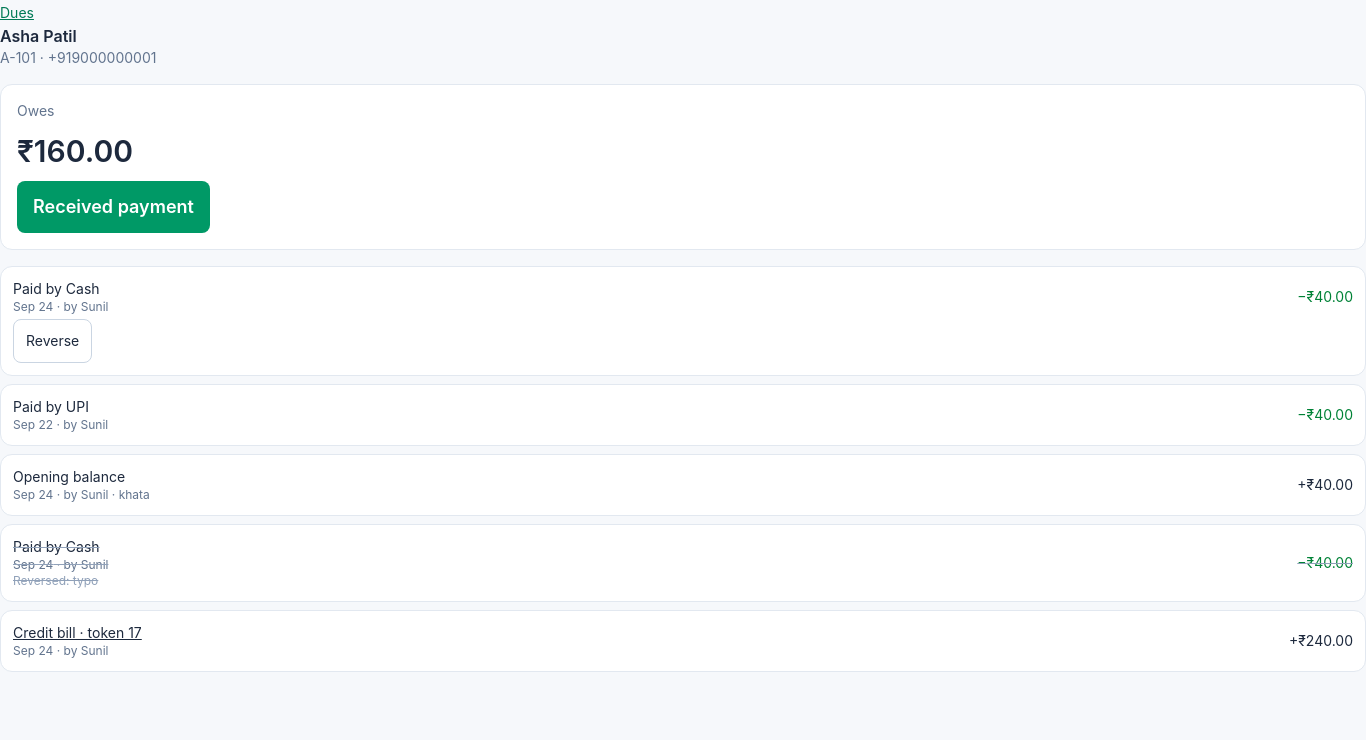
Scenario: Customer dues › shows a server refusal from recording
This screenshot has width=1366, height=740.
Click the button with test id "cd-receive" at (113, 207), box [17,181,210,233]
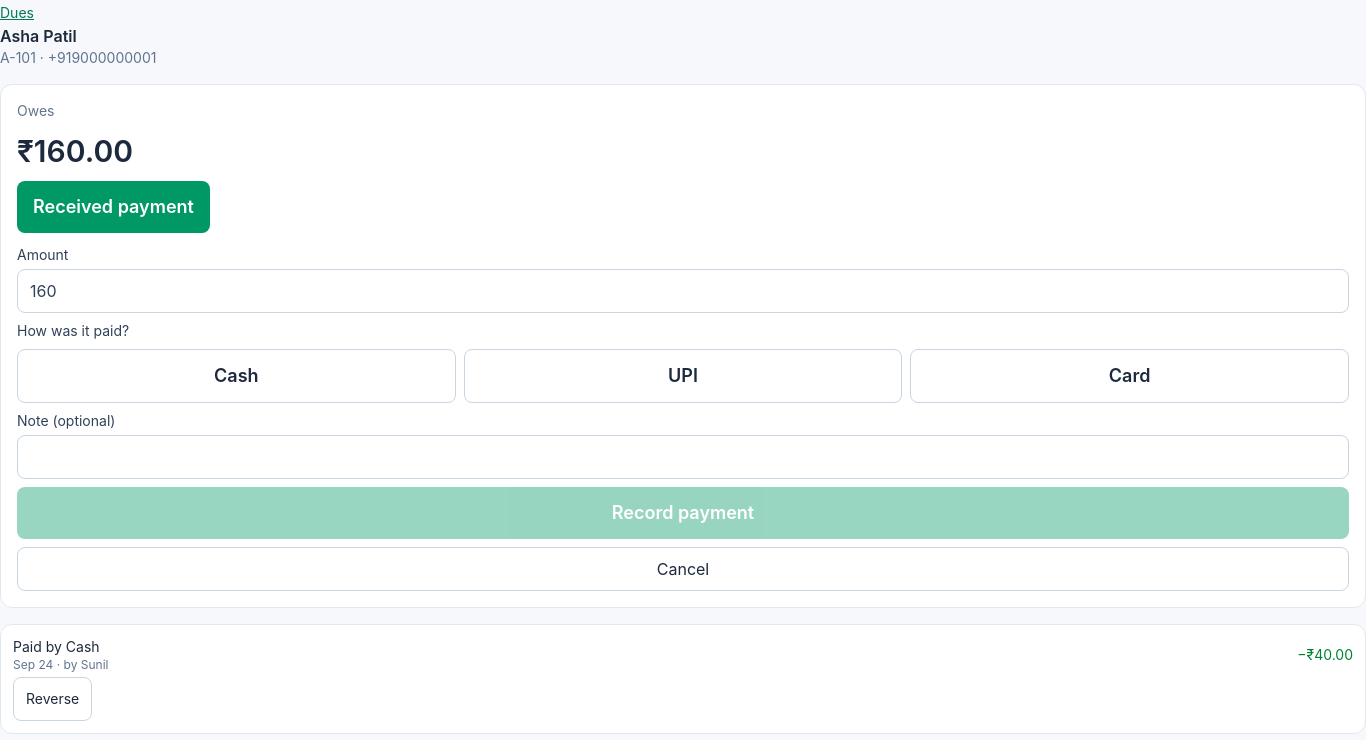
Click the button with test id "cd-mode-cash" at (236, 376), box [17,349,456,403]
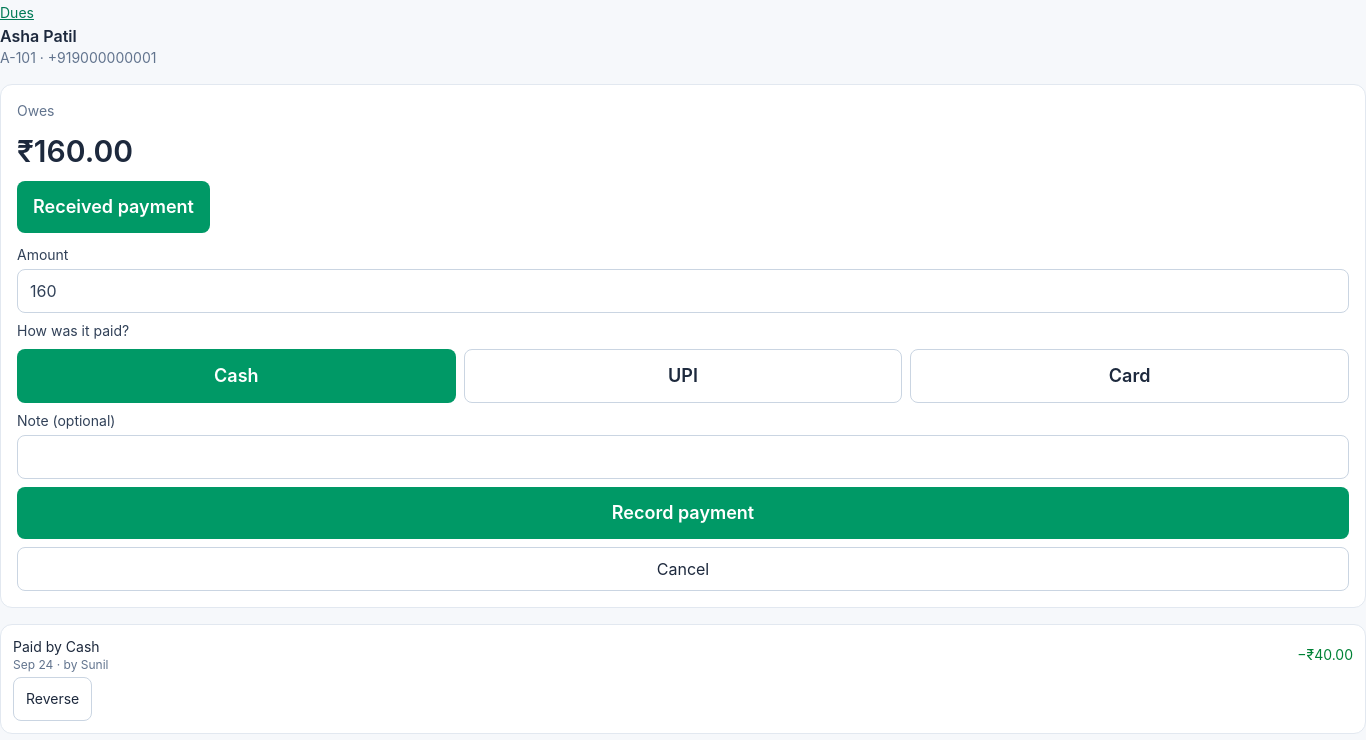
Click the button with test id "cd-receive-confirm" at (683, 513), box [17,487,1349,539]
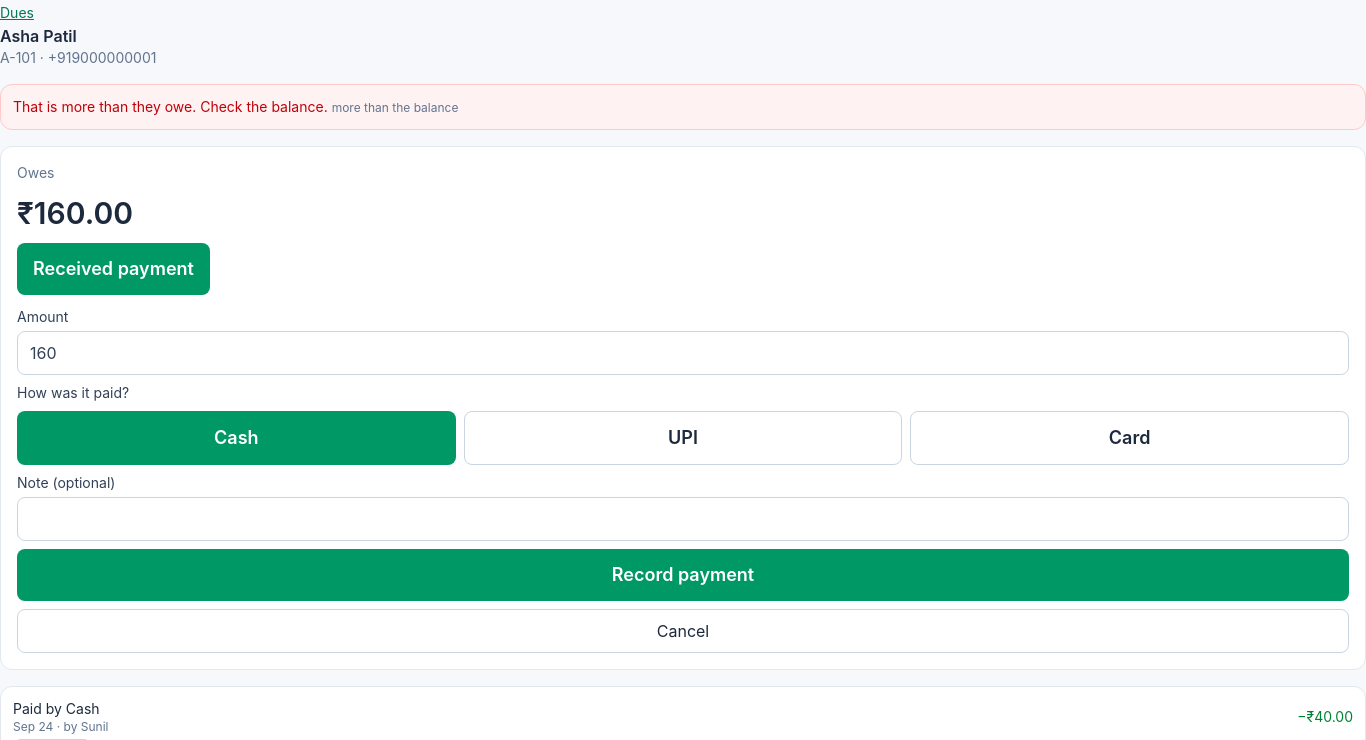
Result: the text "That is more than they owe. Check the balance." is shown at [13,98,328,115]
